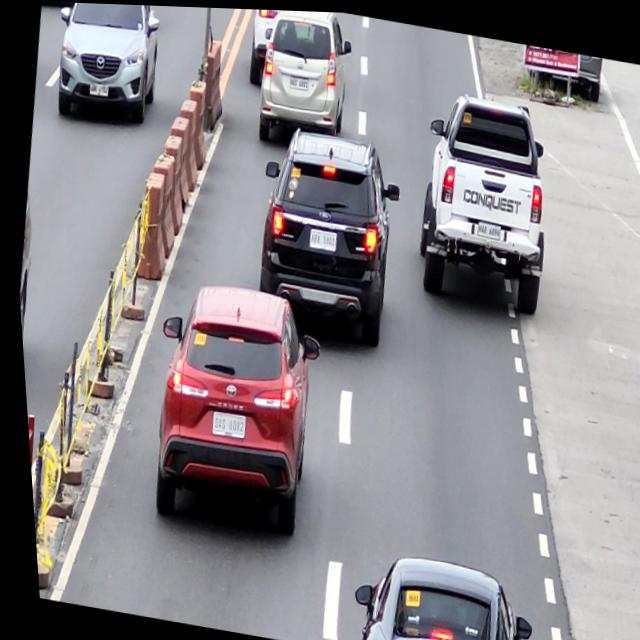Car: (129, 273, 331, 547), (238, 117, 412, 351), (399, 84, 564, 317), (339, 542, 533, 640), (247, 7, 361, 157), (243, 7, 291, 88)
License-Plate: (205, 412, 241, 438), (306, 228, 335, 248), (473, 219, 498, 238), (287, 72, 309, 90)
